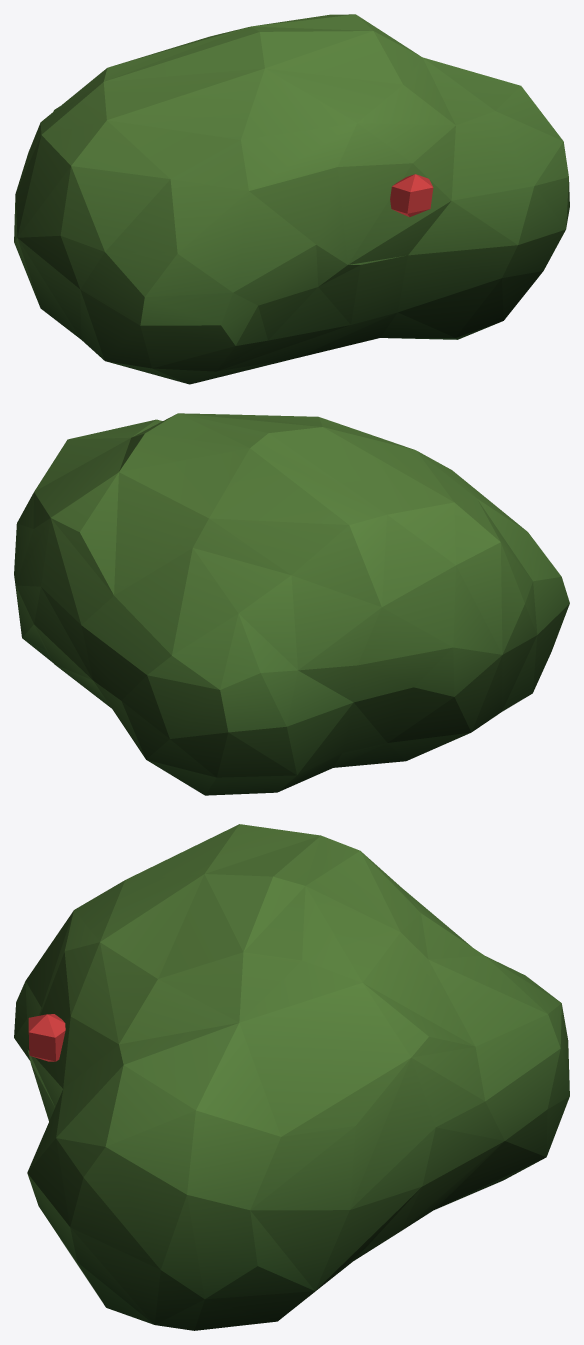
The model's file is krzak_2.glb.
3 views of the same model, one above another, from view 1: azimuth 30°, elevation 25°; view 2: azimuth 150°, elevation 25°; view 3: azimuth 270°, elevation 25° (orthographic). The views are drawn at different scales.
Visible parts, largest first — view 1: krzak_2; view 2: krzak_2; view 3: krzak_2.
Boxes of the visible parts, bbox=[...] form: krzak_2: bbox=[14, 14, 569, 384]; krzak_2: bbox=[14, 413, 569, 795]; krzak_2: bbox=[14, 824, 569, 1330].
Bounding box in the file's own units: 0.8618 × 0.508 × 0.7038.
